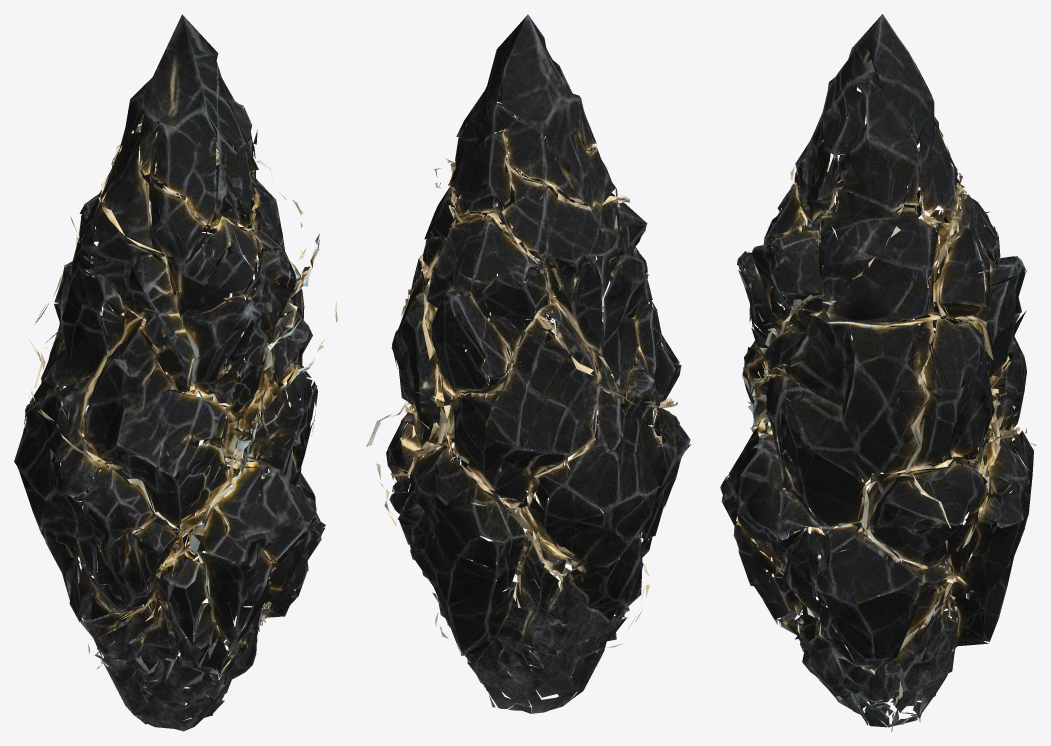
The model's file is thunderstone_pieces.glb.
3 renders of one model, left to right at view 1: azimuth 30°, elevation 25°; view 2: azimuth 150°, elevation 25°; view 3: azimuth 270°, elevation 25°, orthographic. The views are drawn at different scales.
Parts seen in each view (by area): view 1: chunk_0, chunk_9, chunk_2, chunk_6, chunk_1, chunk_5, chunk_3, chunk_8, chunk_4, chunk_7; view 2: chunk_8, chunk_0, chunk_7, chunk_2, chunk_4, chunk_1, chunk_9, chunk_6, chunk_3, chunk_5; view 3: chunk_9, chunk_3, chunk_7, chunk_4, chunk_5, chunk_2, chunk_1, chunk_8, chunk_0, chunk_6.
Boxes of the visible parts, box(x1,y1,x2,y2) form: chunk_0: box(14, 312, 225, 634); chunk_9: box(115, 386, 325, 618); chunk_2: box(76, 14, 257, 249); chunk_6: box(70, 186, 234, 383); chunk_1: box(88, 591, 296, 731); chunk_5: box(177, 139, 319, 394); chunk_3: box(69, 216, 337, 431); chunk_8: box(25, 272, 217, 550); chunk_4: box(63, 234, 265, 423); chunk_7: box(70, 95, 272, 248); chunk_8: box(389, 304, 619, 623); chunk_0: box(474, 307, 691, 645); chunk_7: box(414, 117, 578, 326); chunk_2: box(467, 14, 625, 271); chunk_4: box(372, 289, 575, 495); chunk_1: box(435, 502, 649, 713); chunk_9: box(366, 319, 643, 652); chunk_6: box(544, 132, 656, 309); chunk_3: box(401, 200, 641, 389); chunk_5: box(434, 131, 621, 282); chunk_9: box(720, 377, 1003, 660); chunk_3: box(747, 234, 947, 466); chunk_7: box(878, 126, 1027, 329); chunk_4: box(904, 233, 1026, 528); chunk_5: box(737, 171, 879, 349); chunk_2: box(799, 14, 943, 204); chunk_1: box(742, 543, 989, 731); chunk_8: box(909, 251, 1035, 600); chunk_0: box(742, 252, 988, 600); chunk_6: box(769, 156, 924, 296).
Bounding box in the file's own units: 0.3296 × 0.8083 × 0.3311.
Materials: 1 (1 with a texture image).
